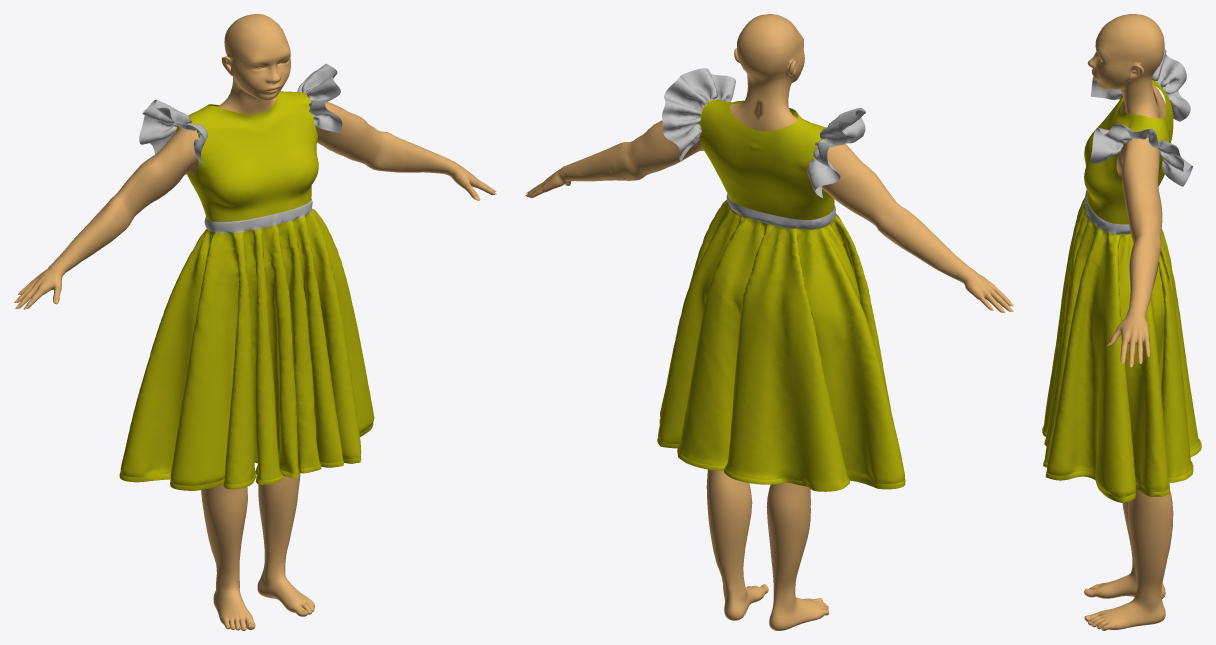
Rendered from dress10.glb.
3 views of the same model, side by side, from view 1: azimuth 30°, elevation 25°; view 2: azimuth 150°, elevation 25°; view 3: azimuth 270°, elevation 25° (orthographic).
Visible parts, largest first — view 1: PinkDrees#14 (OBJ), Body; view 2: PinkDrees#14 (OBJ), Body; view 3: PinkDrees#14 (OBJ), Body.
Boxes of the visible parts, x1,y1,x2,y2 form: PinkDrees#14 (OBJ): [119, 63, 374, 490]; Body: [16, 14, 496, 630]; PinkDrees#14 (OBJ): [657, 68, 905, 491]; Body: [526, 14, 1010, 630]; PinkDrees#14 (OBJ): [1042, 49, 1201, 502]; Body: [1084, 14, 1173, 630].
Size of the model in its own units: 1.58 by 1.85 by 0.451.
